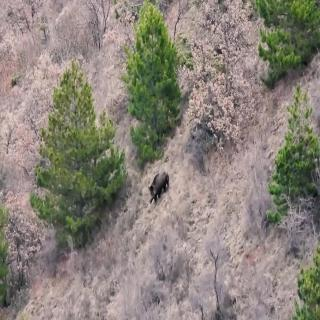Pig: (147, 168, 172, 206)
